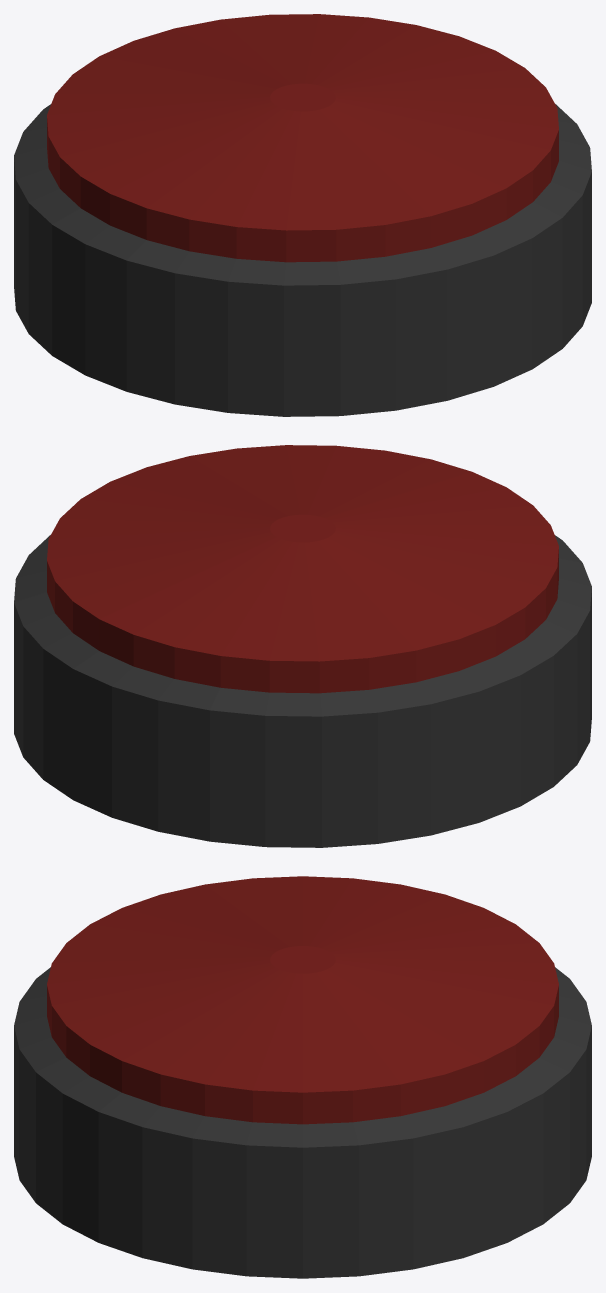
File: Alarm Button.fbx
3 renders of one model, top to bottom at view 1: azimuth 30°, elevation 25°; view 2: azimuth 150°, elevation 25°; view 3: azimuth 270°, elevation 25°, orthographic.
Visible parts, largest first — view 1: Button, Frame; view 2: Button, Frame; view 3: Button, Frame.
Part boxes in pixels (box(x1,y1,x2,y2)): Button: box(47, 14, 558, 262); Frame: box(14, 104, 591, 416); Button: box(47, 445, 558, 693); Frame: box(14, 535, 591, 847); Button: box(47, 876, 558, 1124); Frame: box(14, 967, 591, 1278).
Bounding box in the file's own units: 200 × 75.12 × 200.
